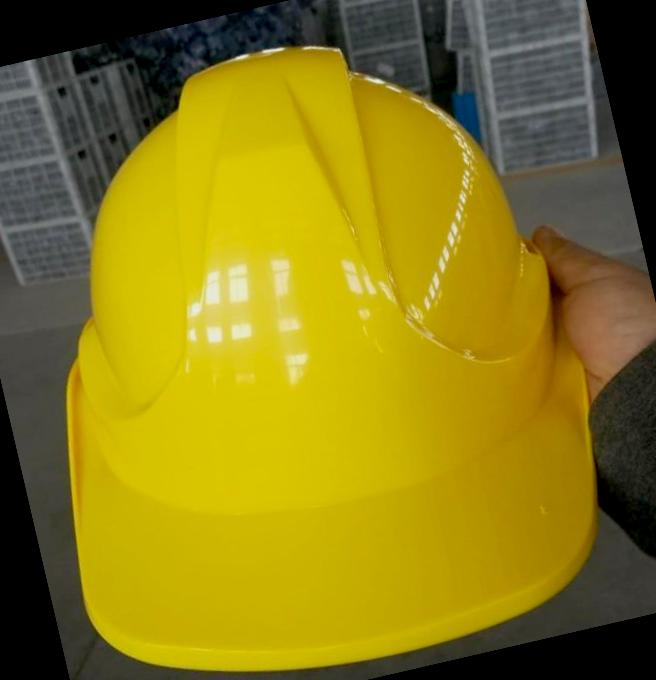helmet: (0, 0, 641, 680)
